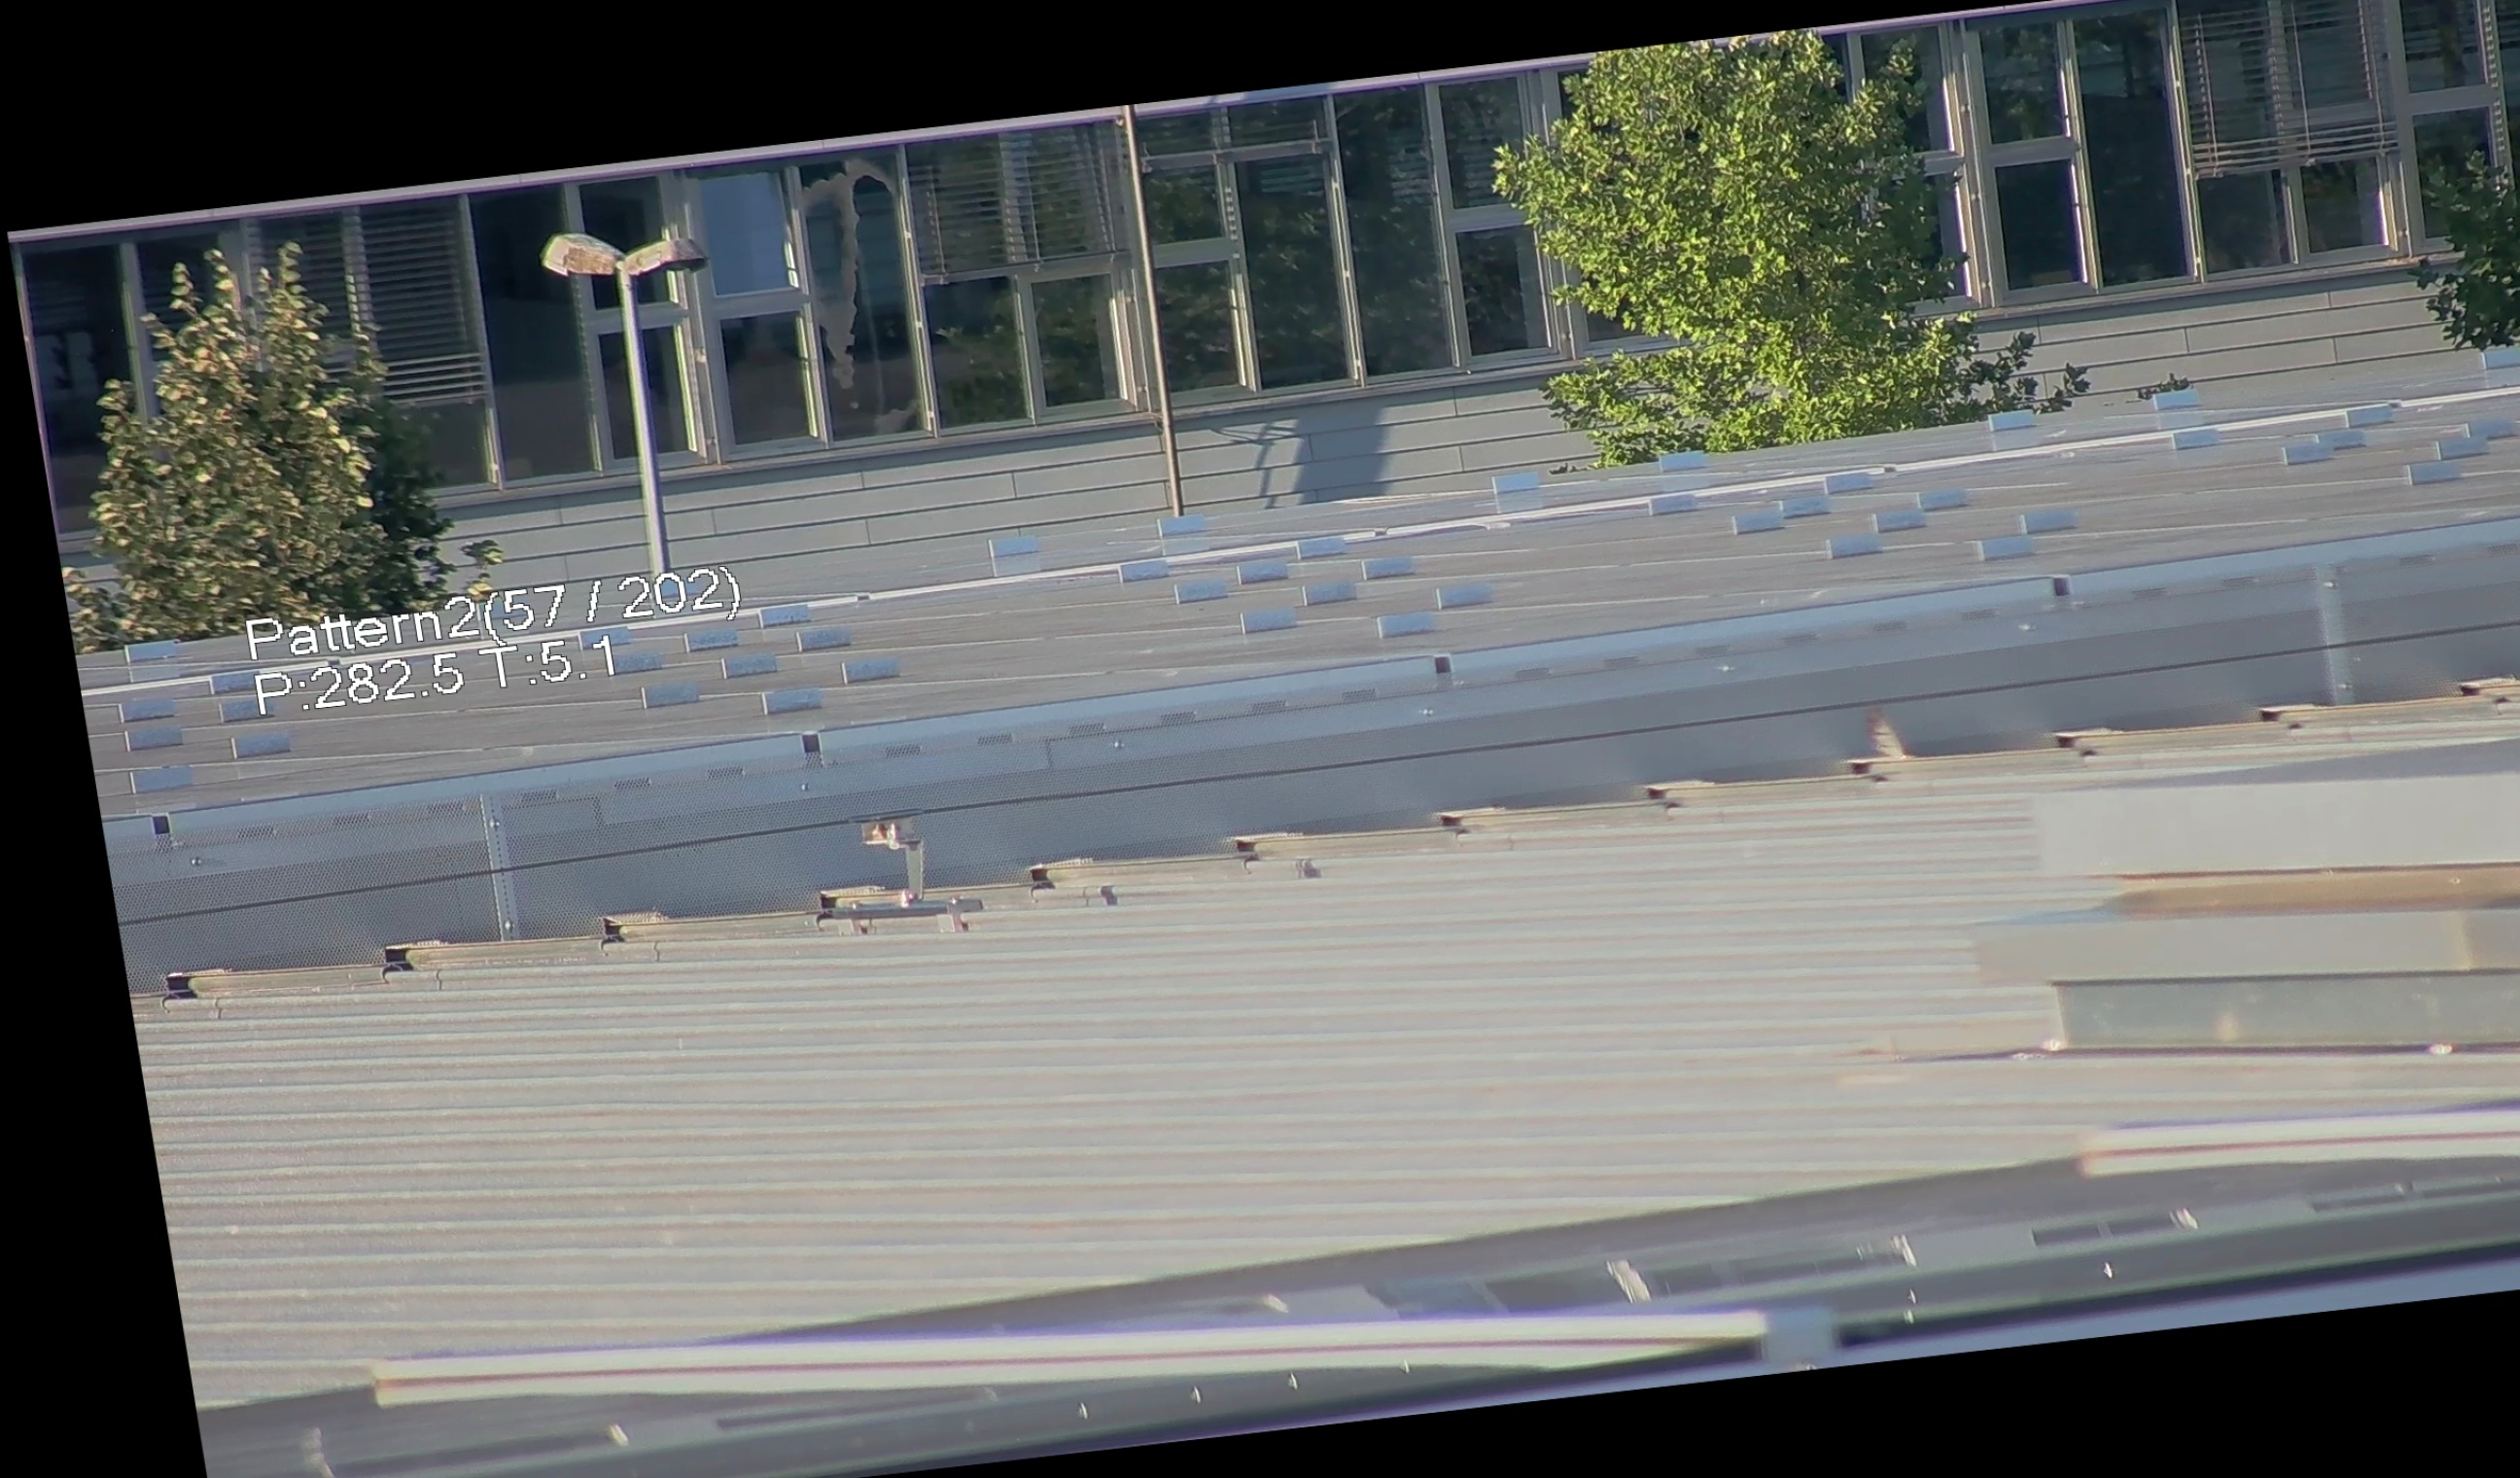Other: (1839, 691, 1927, 788)
